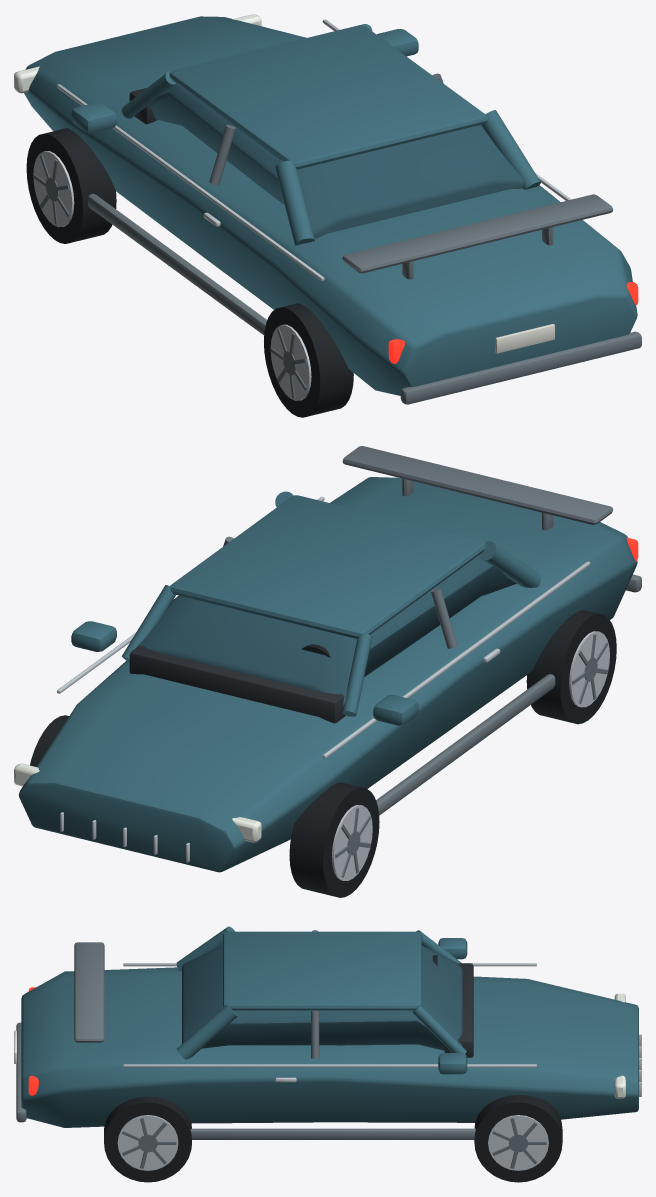
Rendered from Bison_Muscle.fbx.
The picture shows the model from 3 angles, top to bottom: view 1: azimuth 30°, elevation 25°; view 2: azimuth 150°, elevation 25°; view 3: azimuth 270°, elevation 25°; orthographic projection. The views are drawn at different scales.
Visible parts, largest first — view 1: Body.003, Wheel_LF.003, Wheel_LR.003; view 2: Body.003, Wheel_LF.003, Wheel_LR.003, Wheel_RF.003; view 3: Body.003, Wheel_RF.003, Wheel_RR.003.
Boxes of the visible parts, box(x1,y1,x2,y2) form: Body.003: box(24, 16, 641, 404); Wheel_LF.003: box(26, 128, 116, 243); Wheel_LR.003: box(264, 303, 353, 417); Body.003: box(19, 446, 641, 872); Wheel_LF.003: box(289, 782, 379, 897); Wheel_LR.003: box(526, 610, 616, 724); Wheel_RF.003: box(30, 715, 69, 766); Body.003: box(14, 926, 641, 1139); Wheel_RF.003: box(474, 1095, 562, 1182); Wheel_RR.003: box(104, 1096, 191, 1182).
Bounding box in the file's own units: 2.39 × 1.4 × 4.98.
